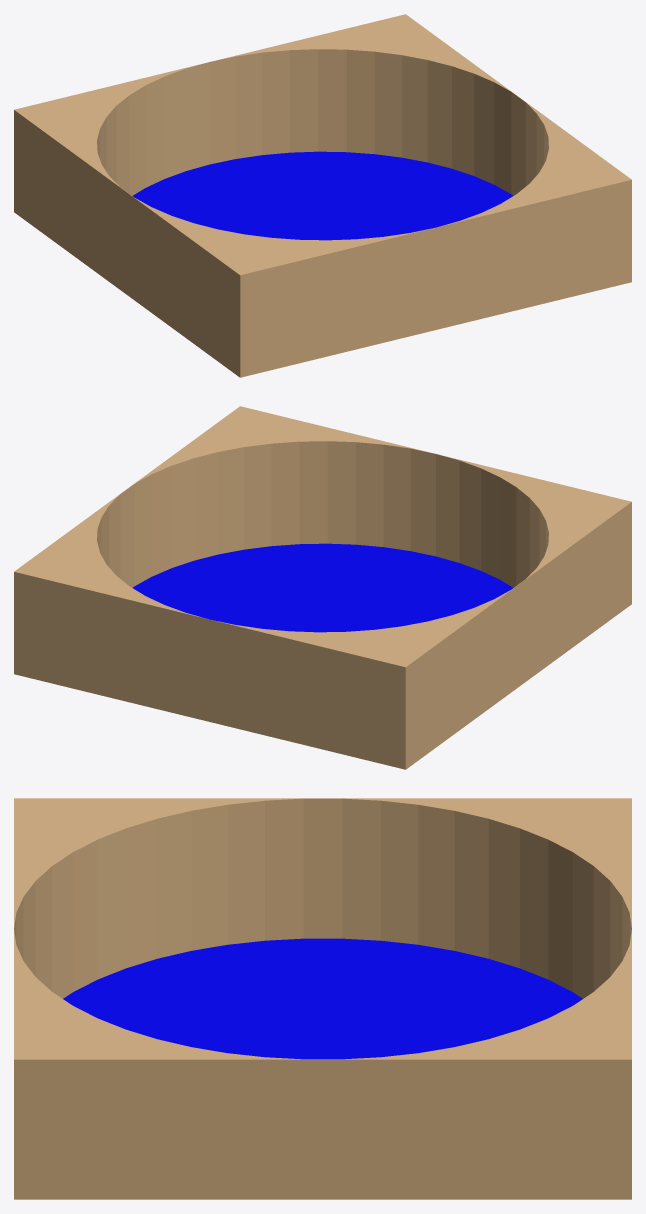
File: circle_mold_blue.gltf
3 views of the same model, one above another, from view 1: azimuth 30°, elevation 25°; view 2: azimuth 150°, elevation 25°; view 3: azimuth 270°, elevation 25° (orthographic). The views are drawn at different scales.
Parts seen in each view (by area): view 1: Mold, Base; view 2: Mold, Base; view 3: Mold, Base.
Boxes of the visible parts, x1,y1,x2,y2 form: Mold: (14,14,631,377); Base: (133,151,512,240); Mold: (14,406,631,769); Base: (133,543,512,632); Mold: (14,798,631,1199); Base: (63,938,582,1059).
Bounding box in the file's own units: 0.2 × 0.05 × 0.2.
